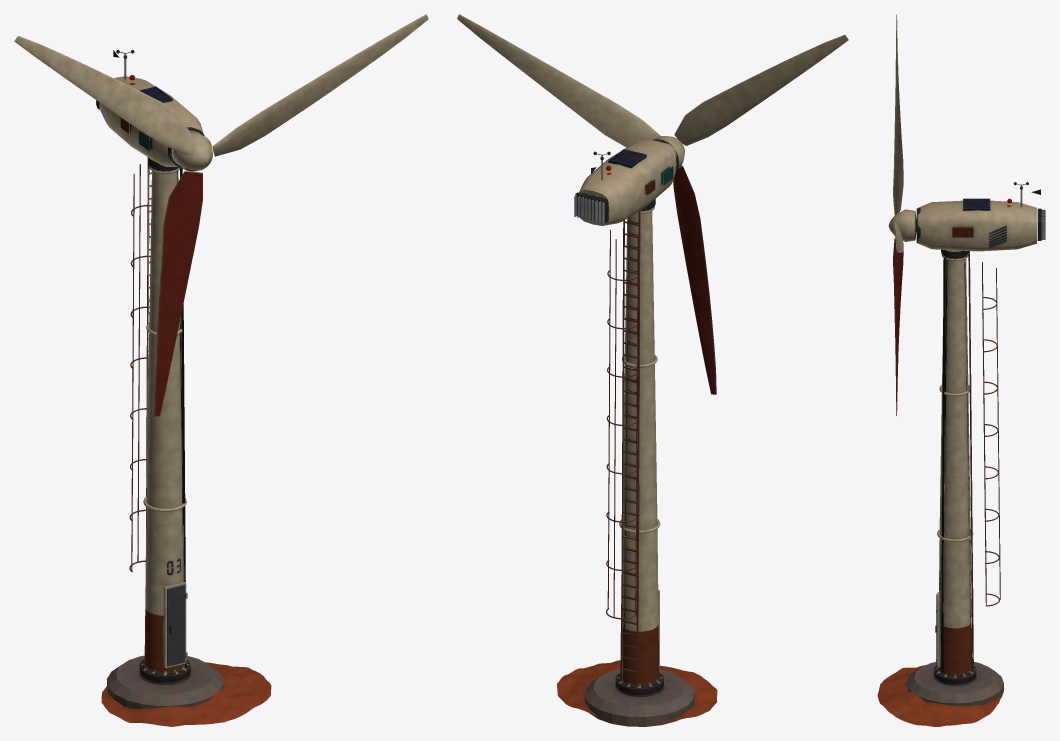
File: wind_turbine.glb
The picture shows the model from 3 angles, left to right: view 1: azimuth 30°, elevation 25°; view 2: azimuth 150°, elevation 25°; view 3: azimuth 270°, elevation 25°; orthographic projection. The views are drawn at different scales.
Parts seen in each view (by area): view 1: wind_turbine; view 2: wind_turbine; view 3: wind_turbine.
Part boxes in pixels (left/top/right/bottom): wind_turbine: left=14, top=14, right=428, bottom=726; wind_turbine: left=457, top=14, right=848, bottom=726; wind_turbine: left=877, top=14, right=1045, bottom=726.
Bounding box in the file's own units: 10.21 × 17.12 × 4.32.
Materials: 2 (2 with a texture image).
